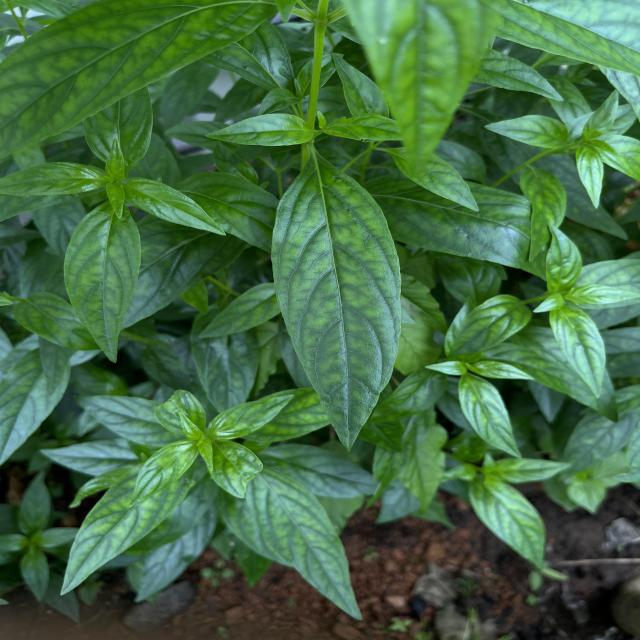Andrographis paniculata: (268, 156, 404, 454), (240, 460, 366, 624), (58, 454, 196, 598), (63, 196, 144, 364), (470, 477, 546, 568), (126, 178, 230, 238), (456, 374, 524, 461), (446, 293, 532, 360), (548, 306, 608, 402), (126, 438, 200, 508), (197, 282, 280, 340), (520, 166, 568, 262), (208, 392, 296, 440), (205, 112, 314, 148), (544, 223, 582, 293), (569, 284, 640, 307)
